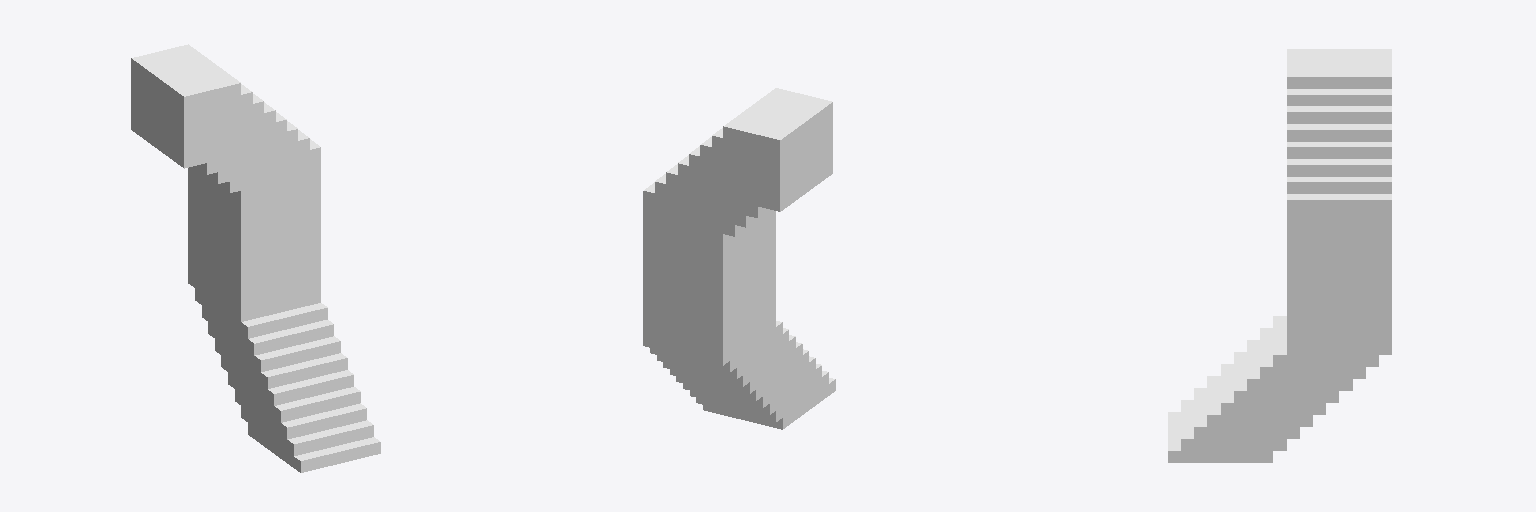
Rendered from skelet-5.obj.
3 renders of one model, left to right at view 1: azimuth 30°, elevation 25°; view 2: azimuth 150°, elevation 25°; view 3: azimuth 270°, elevation 25°, orthographic.
Visible parts, largest first — view 1: object 1; view 2: object 1; view 3: object 1.
Part boxes in pixels (x1,y1,x2,y2): object 1: (131,44,380,472); object 1: (643,88,835,429); object 1: (1168,49,1391,462).
Size of the model in its own units: 1.2 by 2.9 by 1.7.